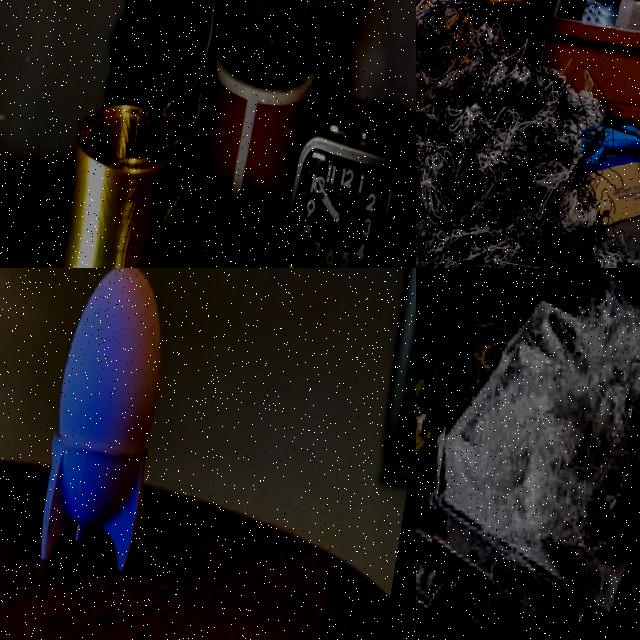spaghetti: (437, 277, 640, 614), (416, 0, 640, 268), (156, 98, 180, 120)
